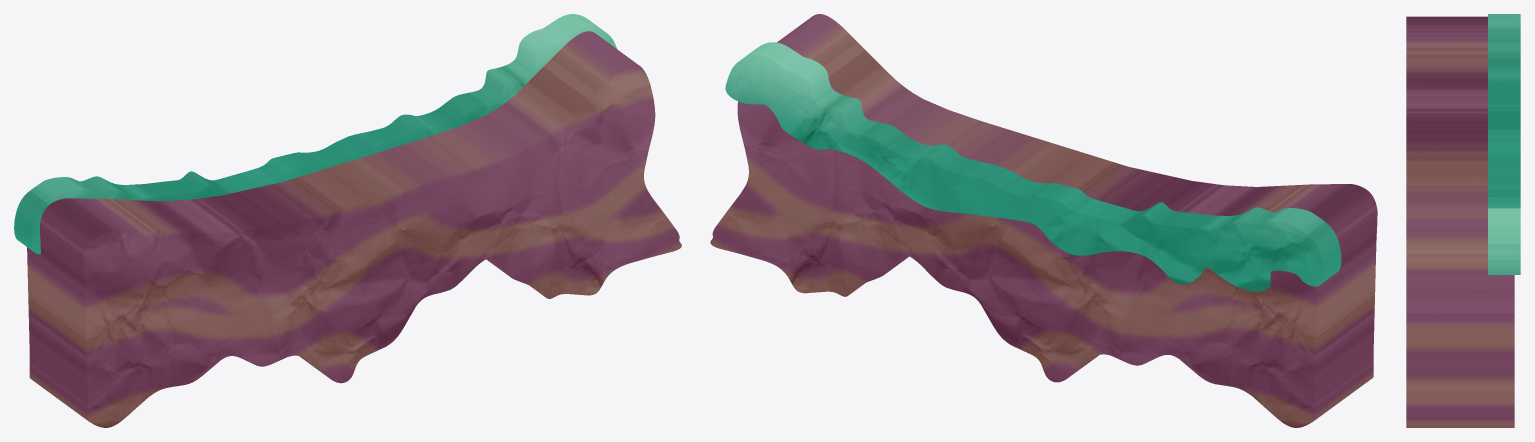
Rendered from Plattform_001.fbx.
3 views of the same model, side by side, from view 1: azimuth 30°, elevation 25°; view 2: azimuth 150°, elevation 25°; view 3: azimuth 270°, elevation 25° (orthographic). The views are drawn at different scales.
Visible parts, largest first — view 1: Platform, Grass; view 2: Platform, Grass; view 3: Platform, Grass.
Boxes of the visible parts, x1,y1,x2,y2 form: Platform: (27, 31, 681, 427); Grass: (14, 14, 616, 254); Platform: (710, 14, 1377, 427); Grass: (725, 42, 1341, 291); Platform: (1406, 16, 1514, 427); Grass: (1488, 14, 1520, 274).
Size of the model in its own units: 380 by 152 by 66.66.
